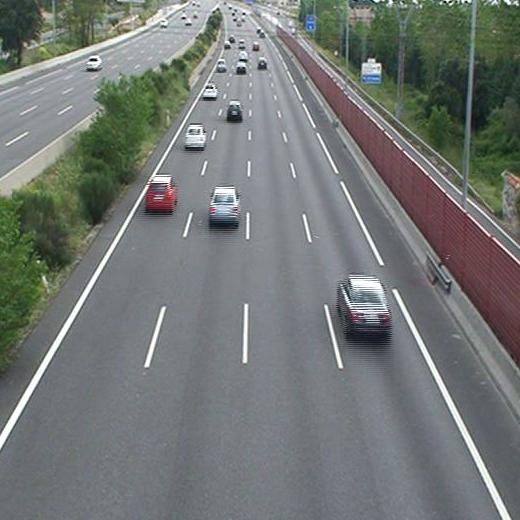car: (338, 278, 390, 331), (145, 175, 176, 211), (209, 187, 240, 223), (184, 126, 206, 147), (226, 102, 242, 116), (203, 84, 218, 98), (216, 59, 227, 71), (238, 50, 248, 60), (257, 58, 266, 68), (236, 63, 247, 71)
